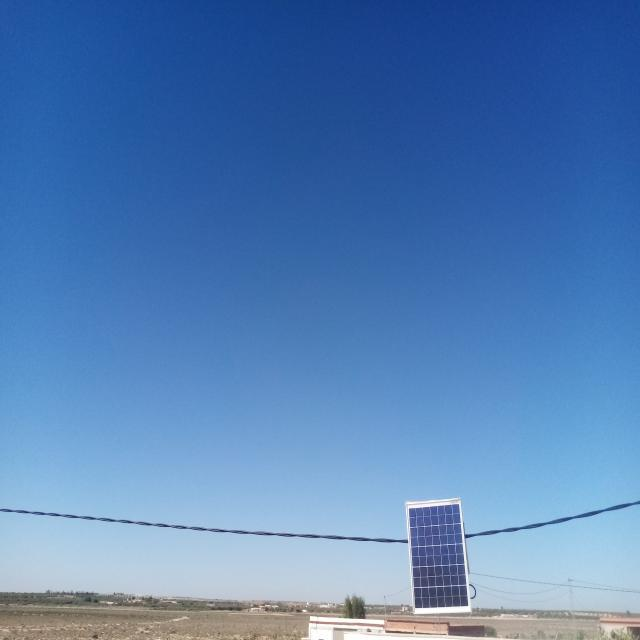no faulty: (407, 500, 472, 615)
